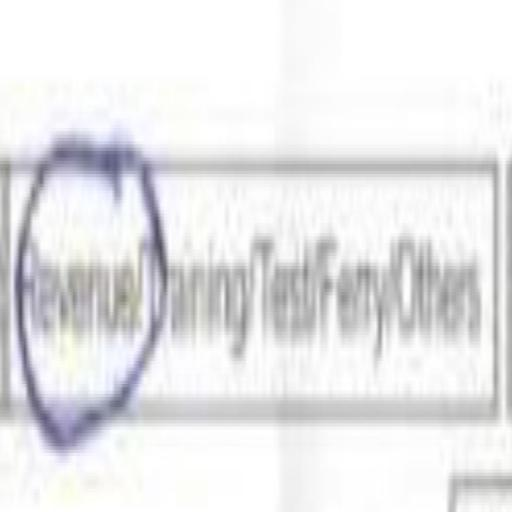check: (20, 113, 144, 512)
